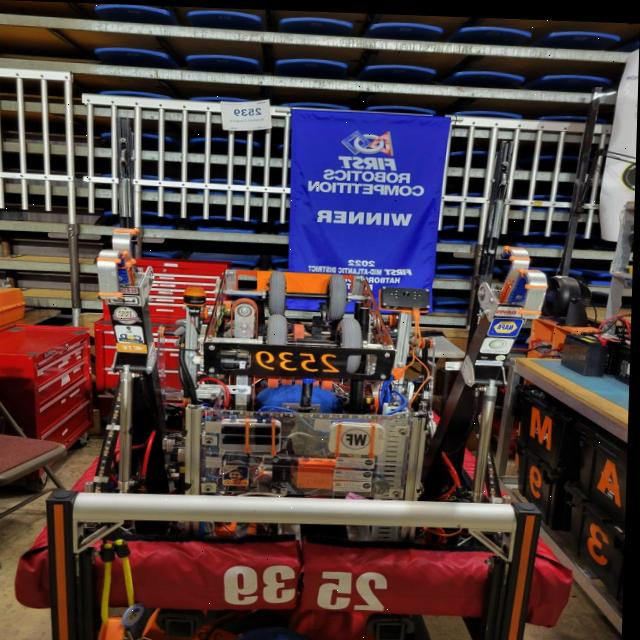robot: (6, 230, 581, 631)
